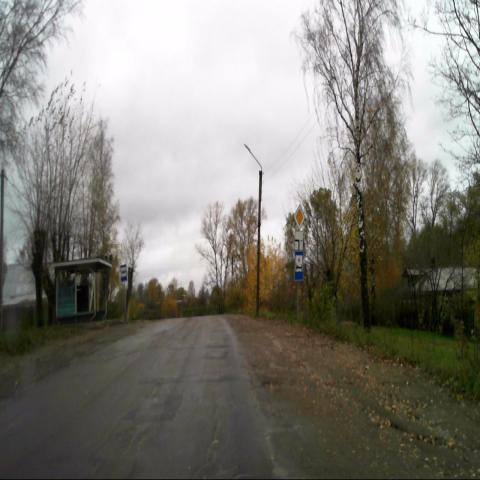7_2: (294, 250, 304, 280)
